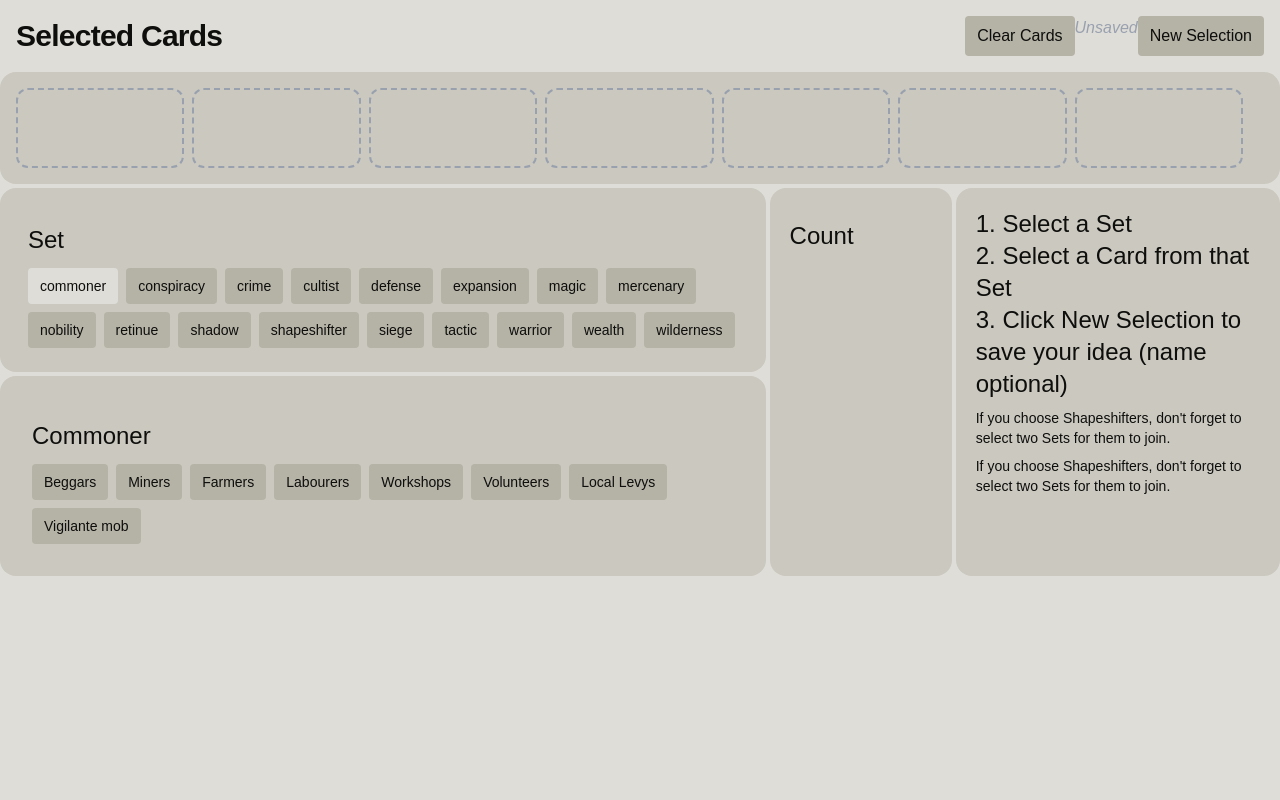
BuilderPage › shows cards when a set is clicked
Click the button "warrior" at (530,330), box [497, 312, 564, 348]
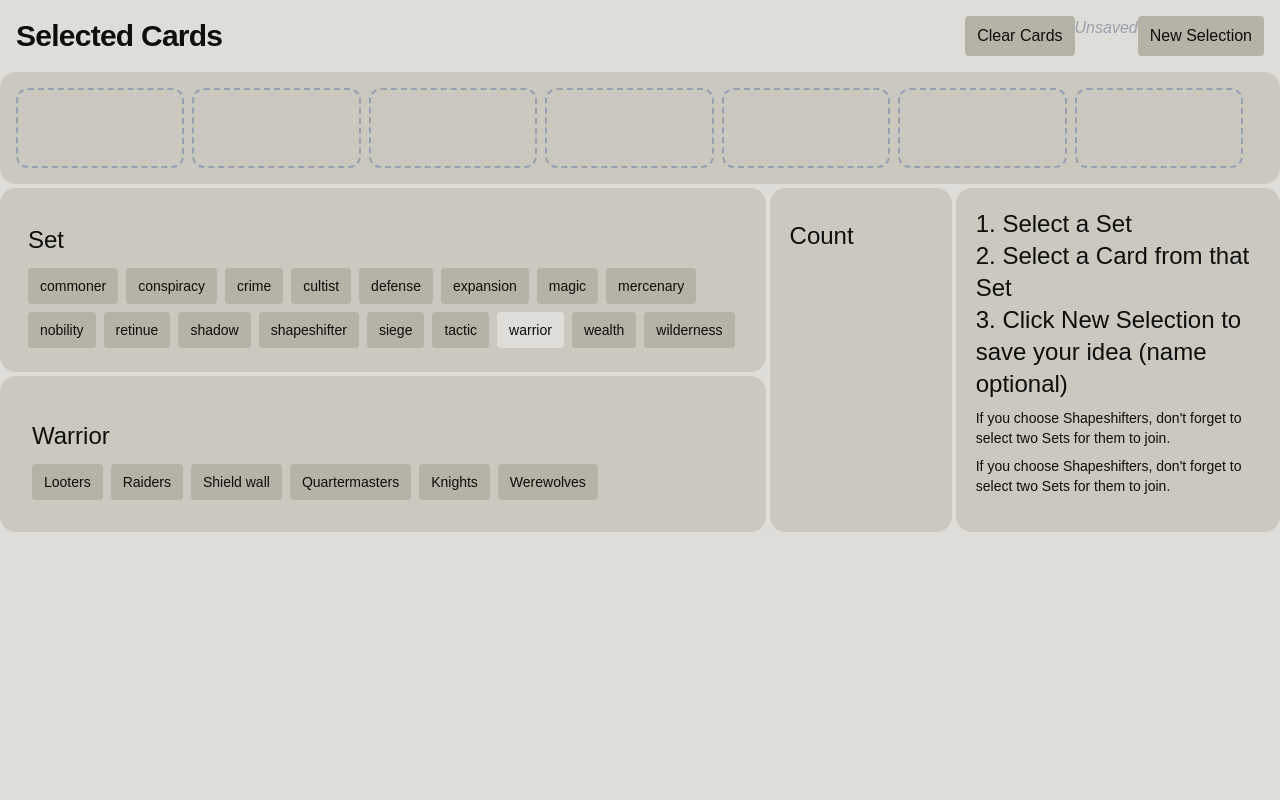
Check: the button "Knights" is shown, box [419, 464, 490, 500]
